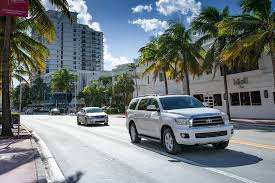car: (127, 97, 232, 154), (76, 105, 109, 127)
